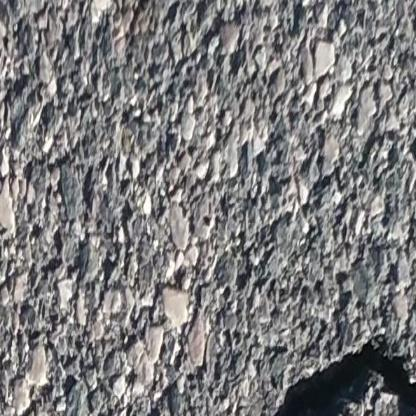Cracks: (263, 343, 416, 416)
